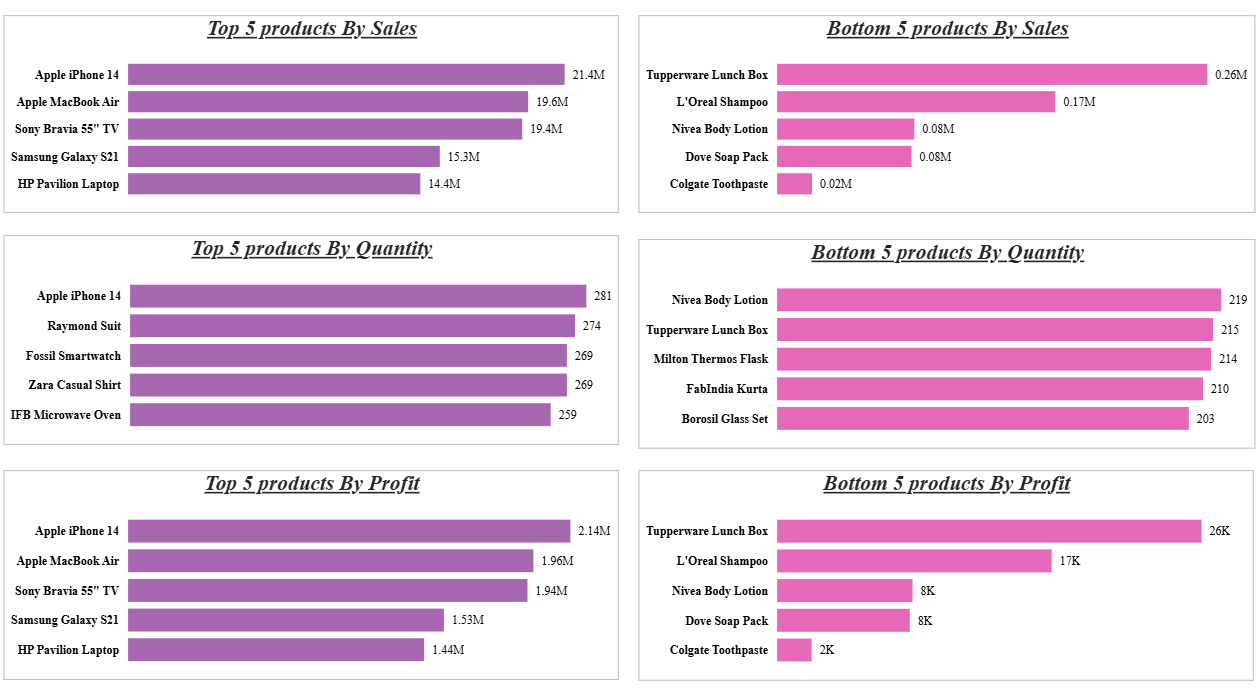

What the dashboard file says about the page in this screenshot:
{"tool":"powerbi","page":{"name":"Top/Bottom 5 Analysis","canvas":[1280,720],"ordinal":1},"visuals":[{"type":"barChart","title":"Top 5 products By Sales","fields":{"Category":["Dim Product.Product Name"],"Y":["Sum(Fact Table.Net Sales)"]},"box":[12.7,31.8,615.5,197.2],"z":0},{"type":"barChart","title":"Bottom 5 products By Sales","fields":{"Category":["Dim Product.Product Name"],"Y":["Sum(Fact Table.Net Sales)"]},"box":[647.3,31.8,617.1,197.2],"z":1000},{"type":"barChart","title":"Top 5 products By Quantity","fields":{"Category":["Dim Product.Product Name"],"Y":["Sum(Fact Table.Units Sold)"]},"box":[12.7,251.3,615.5,209.9],"z":2000},{"type":"barChart","title":"Bottom 5 products By Quantity","fields":{"Category":["Dim Product.Product Name"],"Y":["Sum(Fact Table.Units Sold)"]},"box":[647.3,254.5,617.1,209.9],"z":3000},{"type":"barChart","title":"Top 5 products By Profit","fields":{"Category":["Dim Product.Product Name"],"Y":["Sum(Fact Table.Profit)"]},"box":[12.7,486.7,615.5,209.9],"z":4000},{"type":"barChart","title":"Bottom 5 products By Profit","fields":{"Category":["Dim Product.Product Name"],"Y":["Sum(Fact Table.Profit)"]},"box":[646.9,486.7,615.1,210.3],"z":5000}]}

Visuals, with their boxes in screenshot pixels (x1, y1, x2, y2), scaled from the page's 1280x720 canvas onto the 1259x692 screenshot:
"Top 5 products By Sales" barChart: (12, 31, 618, 220)
"Bottom 5 products By Sales" barChart: (637, 31, 1244, 220)
"Top 5 products By Quantity" barChart: (12, 242, 618, 443)
"Bottom 5 products By Quantity" barChart: (637, 245, 1244, 446)
"Top 5 products By Profit" barChart: (12, 468, 618, 670)
"Bottom 5 products By Profit" barChart: (636, 468, 1241, 670)
